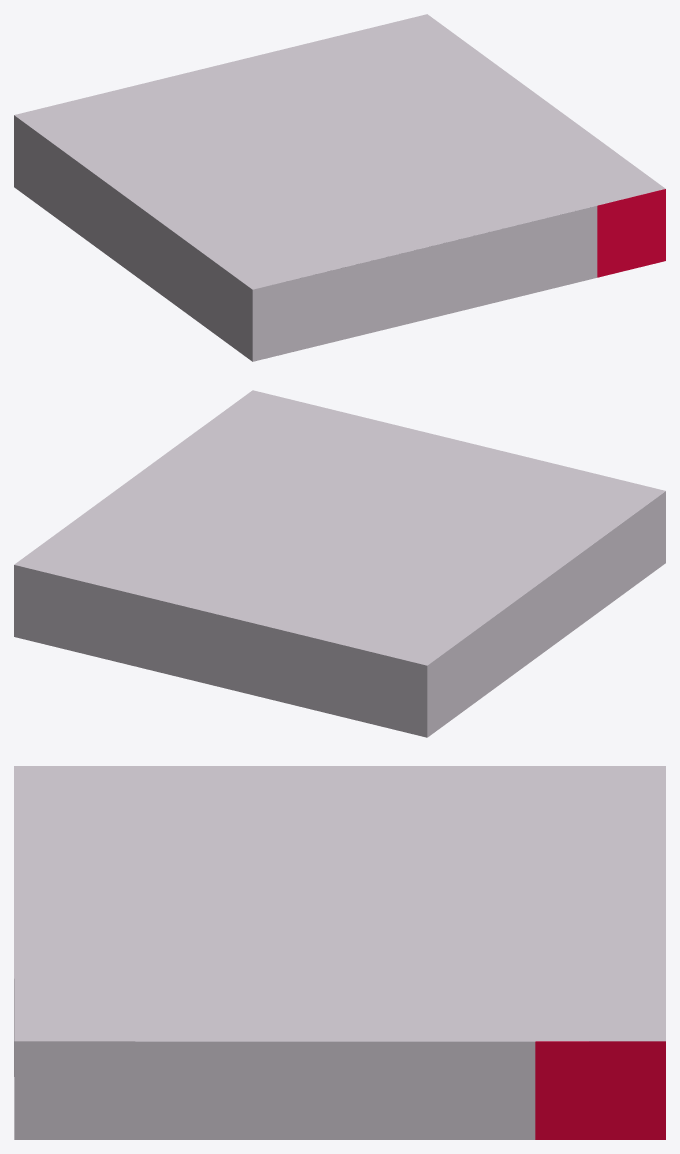
File: Hard Room 2.fbx
The picture shows the model from 3 angles, top to bottom: view 1: azimuth 30°, elevation 25°; view 2: azimuth 150°, elevation 25°; view 3: azimuth 270°, elevation 25°; orthographic projection. The views are drawn at different scales.
Visible parts, largest first — view 1: Plane; view 2: Plane; view 3: Plane.
Part boxes in pixels (box(x1,y1,x2,y2)): Plane: box(14, 14, 665, 361); Plane: box(14, 390, 665, 737); Plane: box(14, 766, 665, 1139).
Size of the model in its own units: 3001 by 501 by 3001.
